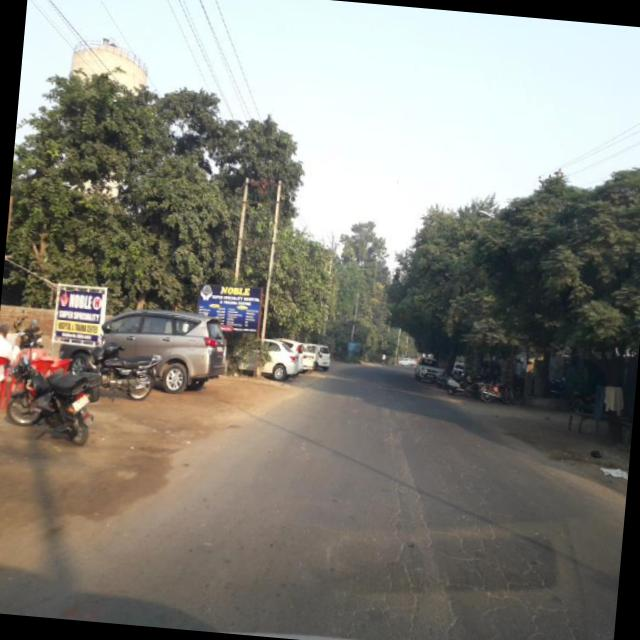crack: (341, 466, 603, 640)
